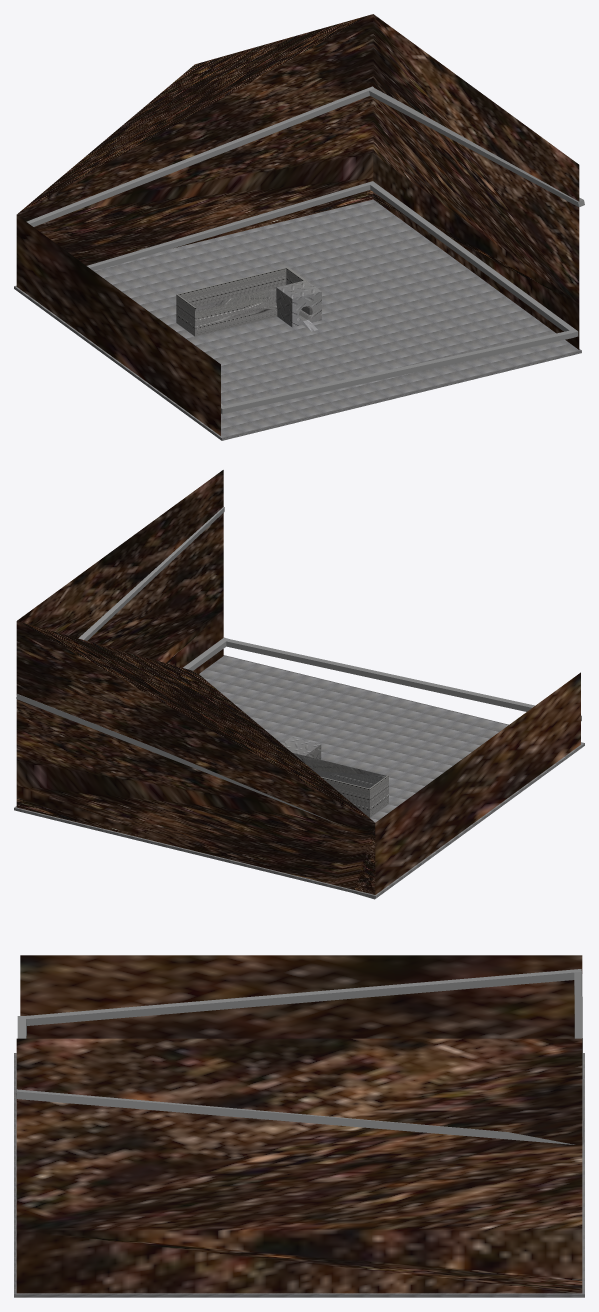
File: untitled_teszt.glb
3 views of the same model, one above another, from view 1: azimuth 30°, elevation 25°; view 2: azimuth 150°, elevation 25°; view 3: azimuth 270°, elevation 25° (orthographic). The views are drawn at different scales.
Parts seen in each view (by area): view 1: earthside, Floor, aroundstairs, Cube; view 2: earthside, Floor, aroundstairs, Cube; view 3: earthside, aroundstairs, Floor.
Boxes of the visible parts, left/top/right/bottom form: earthside: left=16, top=14, right=579, bottom=435; Floor: left=14, top=199, right=581, bottom=440; aroundstairs: left=26, top=86, right=584, bottom=414; Cube: left=176, top=267, right=321, bottom=336; earthside: left=16, top=470, right=580, bottom=894; Floor: left=14, top=655, right=584, bottom=898; aroundstairs: left=16, top=507, right=581, bottom=899; Cube: left=282, top=737, right=388, bottom=817; earthside: left=16, top=955, right=582, bottom=1293; aroundstairs: left=16, top=969, right=583, bottom=1144; Floor: left=14, top=1053, right=584, bottom=1297.
Bounding box in the file's own units: 148 × 74.22 × 147.
3 materials, 2 textured.
